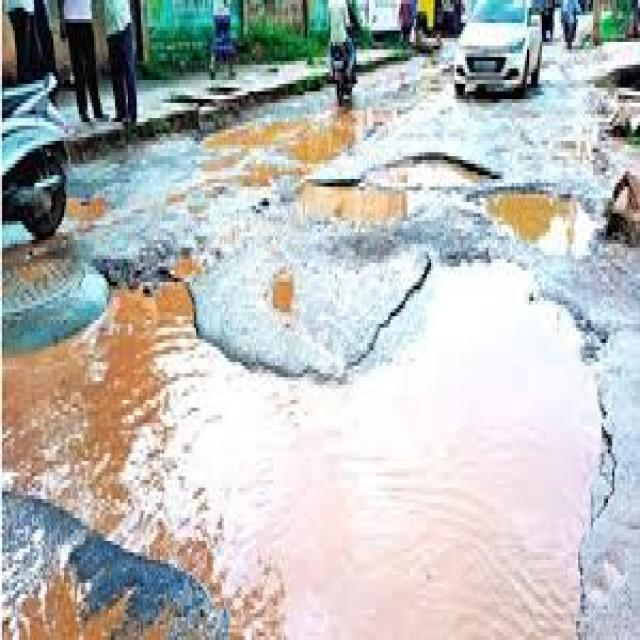Pothole: (4, 263, 604, 640), (201, 110, 495, 225)
